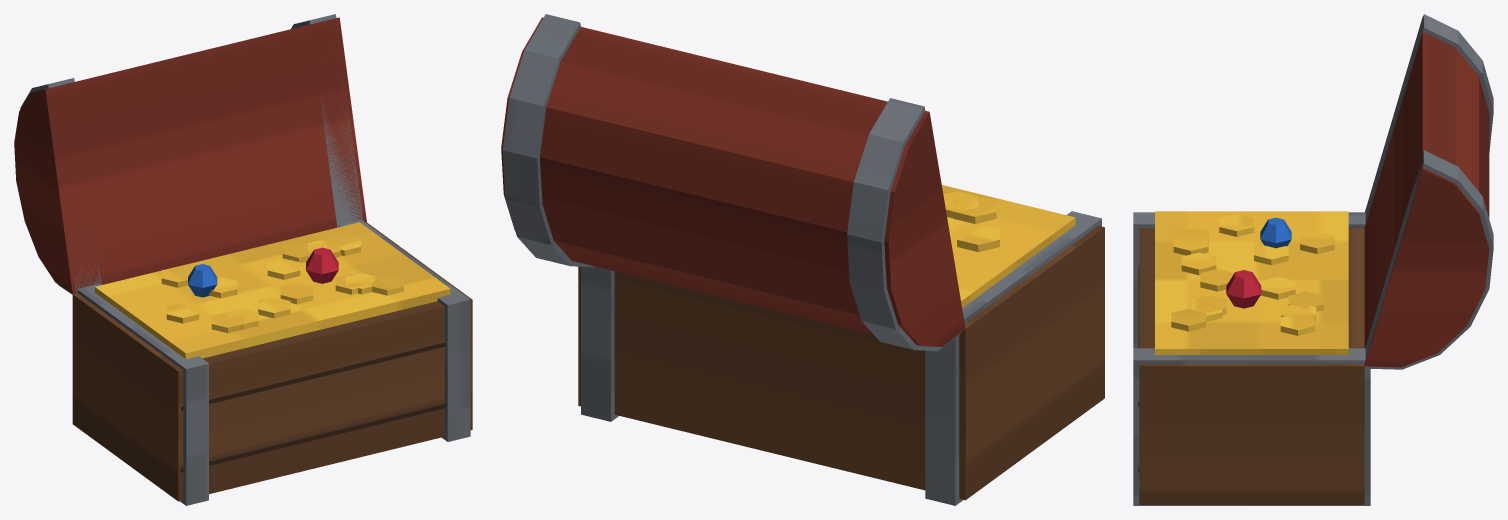
File: SM_Prop_TreasureChestOpen_HQ.glb
The picture shows the model from 3 angles, left to right: view 1: azimuth 30°, elevation 25°; view 2: azimuth 150°, elevation 25°; view 3: azimuth 270°, elevation 25°; orthographic projection. The views are drawn at different scales.
Parts seen in each view (by area): view 1: SM_Prop_TreasureChestOpen_HQ; view 2: SM_Prop_TreasureChestOpen_HQ; view 3: SM_Prop_TreasureChestOpen_HQ.
Boxes of the visible parts, left/top/right/bottom form: SM_Prop_TreasureChestOpen_HQ: left=14, top=14, right=472, bottom=505; SM_Prop_TreasureChestOpen_HQ: left=501, top=14, right=1104, bottom=505; SM_Prop_TreasureChestOpen_HQ: left=1133, top=14, right=1493, bottom=505.
Size of the model in its own units: 0.9 by 0.9417 by 0.8962.
Materials: 1 (1 with a texture image).
